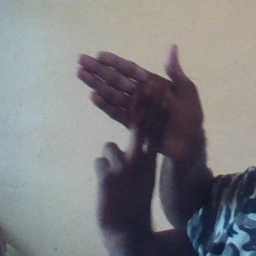N: (66, 38, 209, 194)
